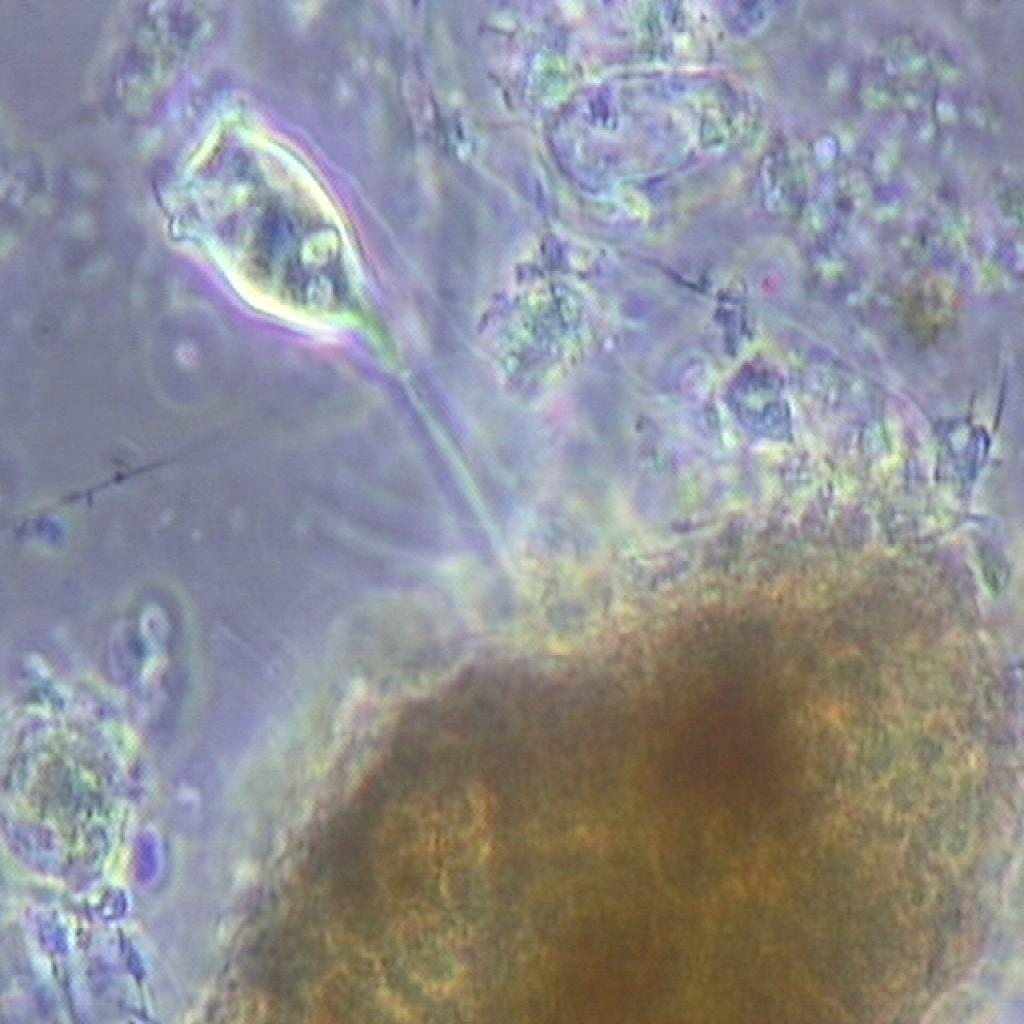Vorticella: (144, 102, 491, 502)
